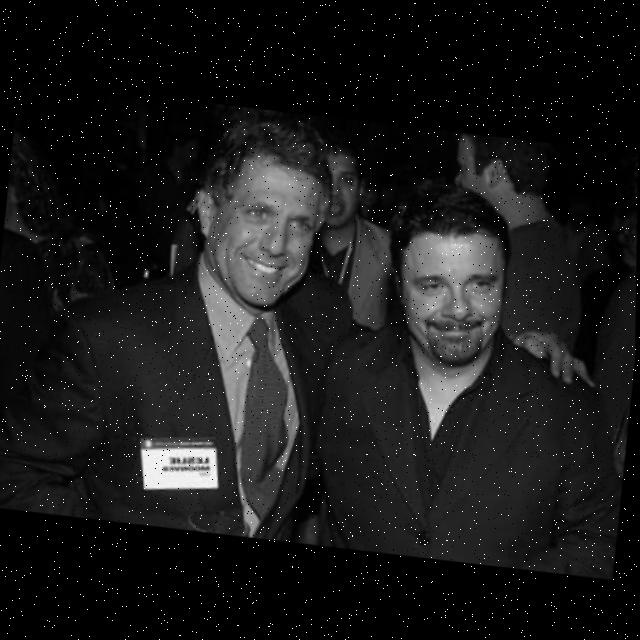face: (191, 145, 331, 315), (383, 222, 507, 376)
